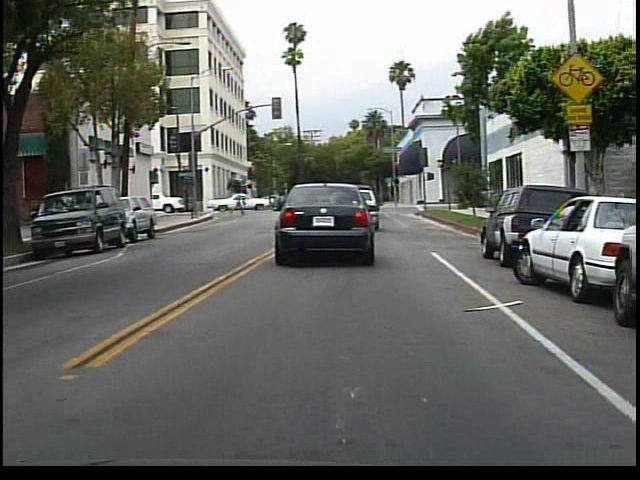person: (227, 187, 247, 218)
